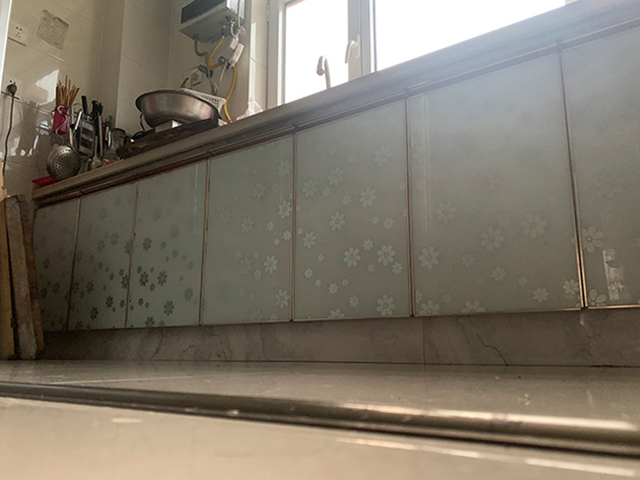cabinet: (30, 1, 640, 366)
